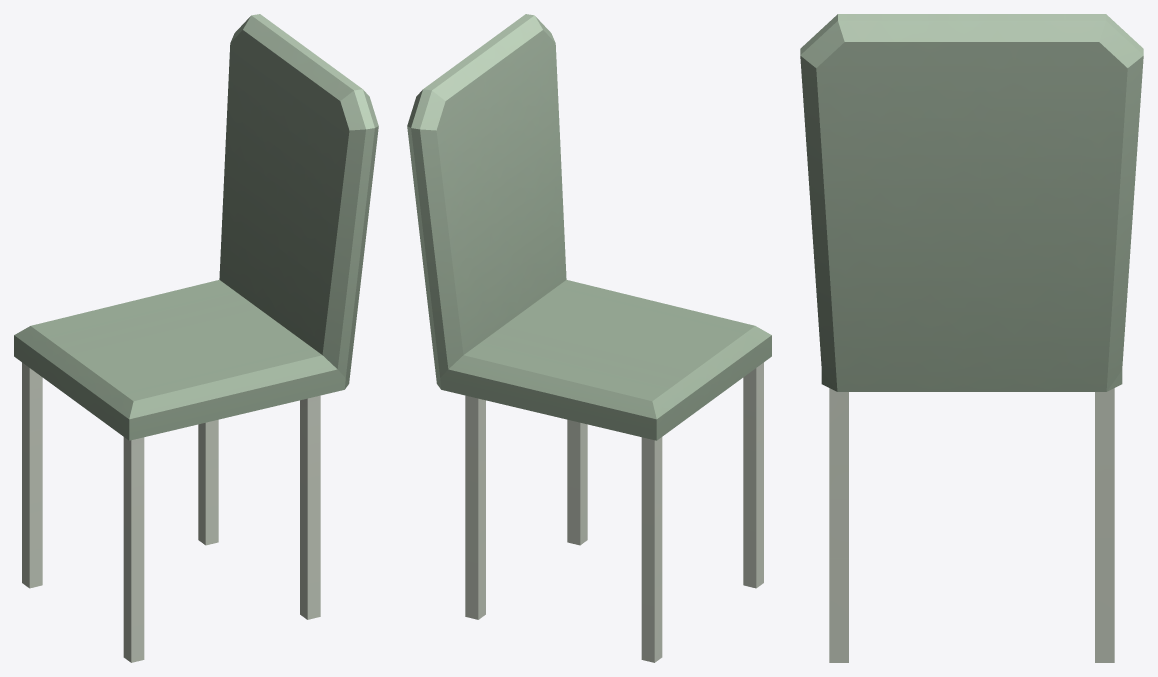
File: cafe_chair.glb
3 renders of one model, left to right at view 1: azimuth 30°, elevation 25°; view 2: azimuth 150°, elevation 25°; view 3: azimuth 270°, elevation 25°, orthographic. The views are drawn at different scales.
Visible parts, largest first — view 1: Plane.007_Material_0; view 2: Plane.007_Material_0; view 3: Plane.007_Material_0.
Part boxes in pixels (x1,y1,x2,y2): Plane.007_Material_0: (14, 14, 378, 662); Plane.007_Material_0: (407, 14, 771, 662); Plane.007_Material_0: (800, 14, 1143, 662).
Size of the model in its own units: 46.91 by 92.59 by 42.87.
1 material, 1 textured.
